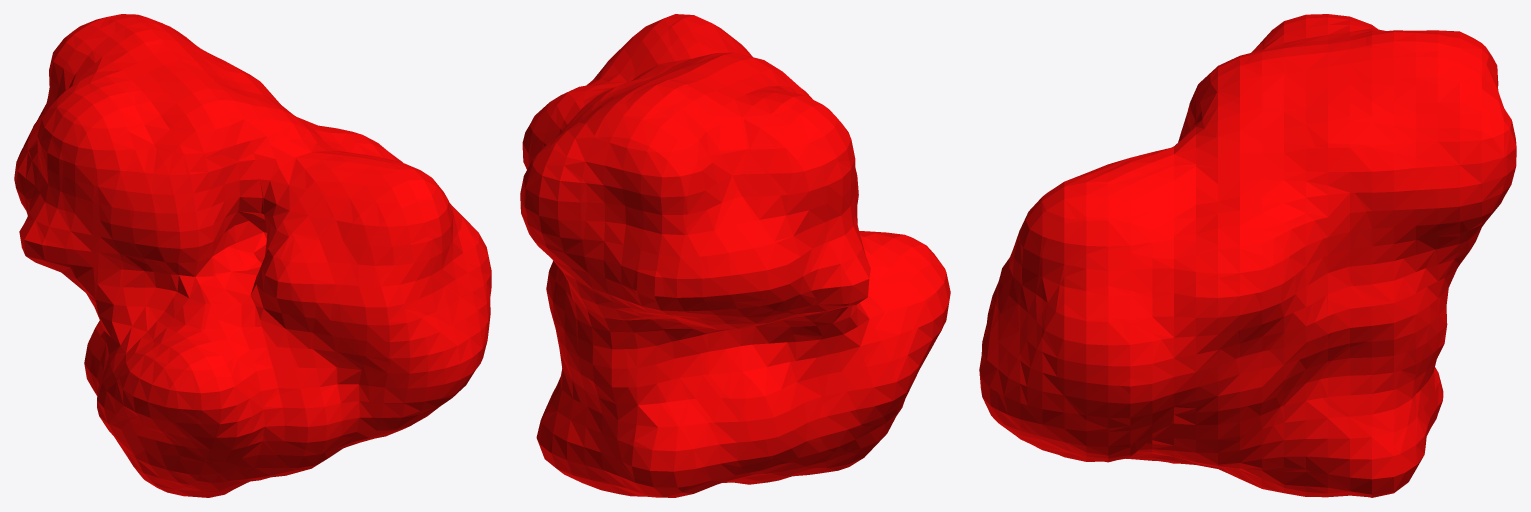
Rendered from hemC_coarse.dae.
The picture shows the model from 3 angles, left to right: view 1: azimuth 30°, elevation 25°; view 2: azimuth 150°, elevation 25°; view 3: azimuth 270°, elevation 25°; orthographic projection. The views are drawn at different scales.
Parts seen in each view (by area): view 1: hemC; view 2: hemC; view 3: hemC.
Boxes of the visible parts, <box> form: hemC: <box>14,14,491,497</box>; hemC: <box>520,14,950,497</box>; hemC: <box>979,14,1516,497</box>.
Bounding box in the file's own units: 51.16 × 51.56 × 57.16.
